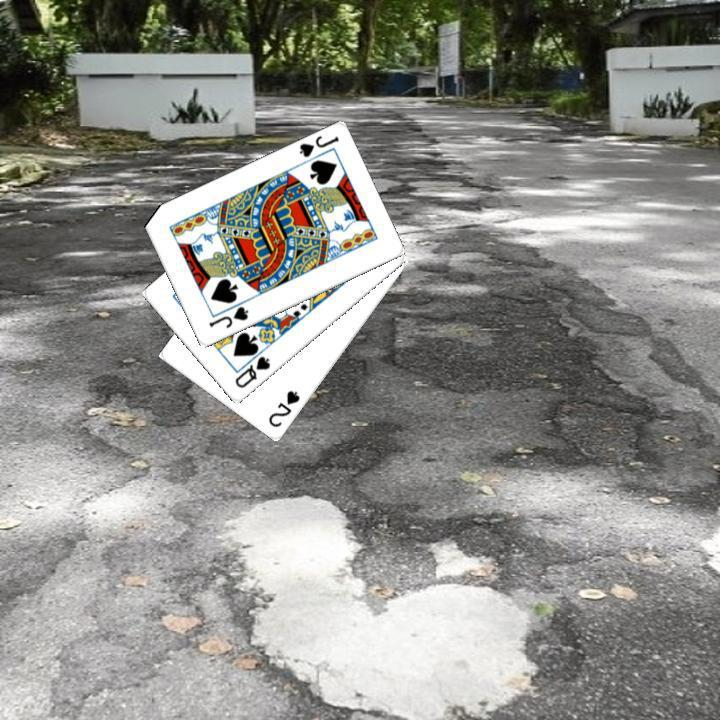2: (264, 386, 302, 430)
J: (204, 302, 250, 331), (295, 132, 341, 160)
Q: (230, 352, 272, 390)
